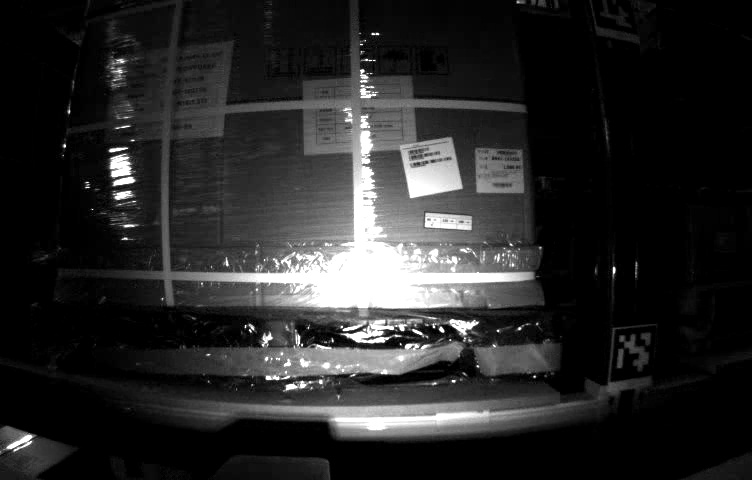True Barcode: (474, 145, 523, 190)
